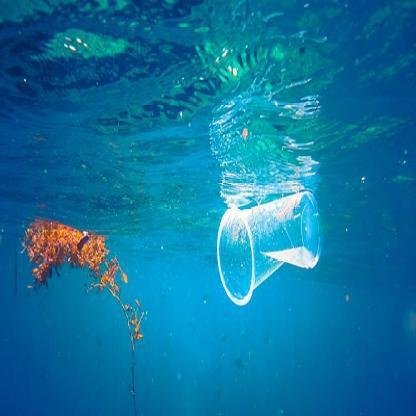Rác: (214, 188, 338, 302)
